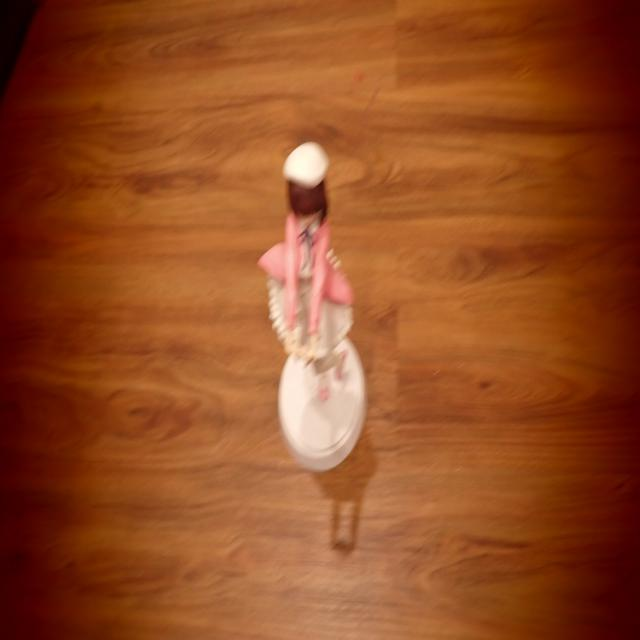My-pink-anime-figure: (259, 143, 353, 400)
